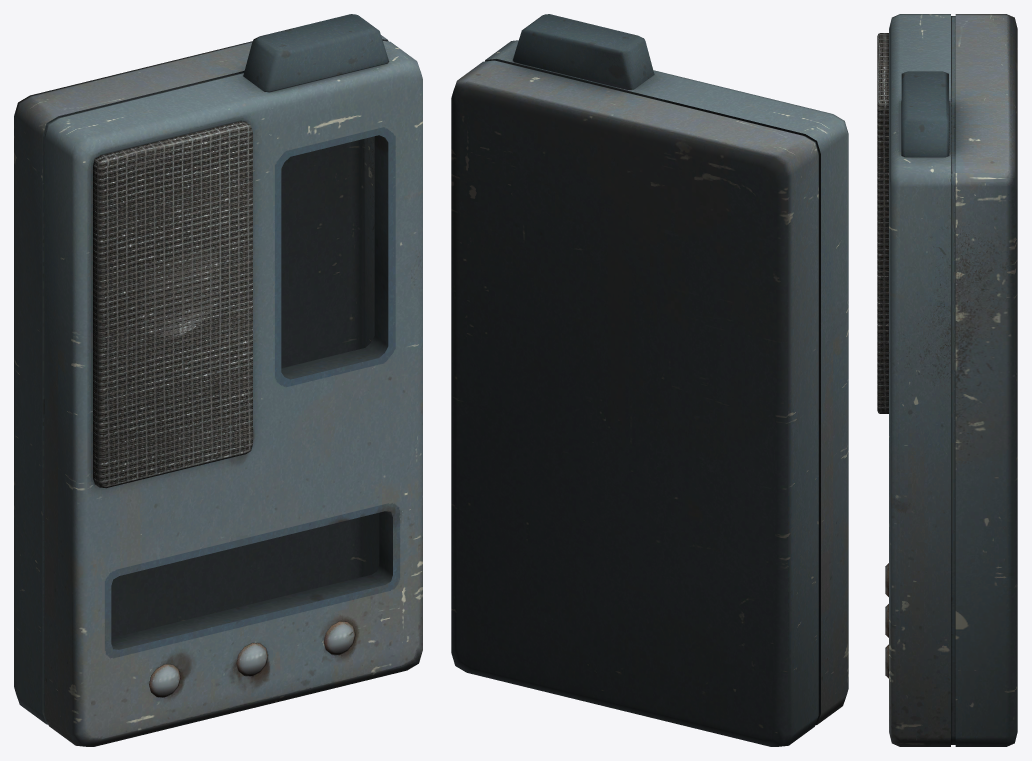
The model's file is Intercom.fbx.
The picture shows the model from 3 angles, left to right: view 1: azimuth 30°, elevation 25°; view 2: azimuth 150°, elevation 25°; view 3: azimuth 270°, elevation 25°; orthographic projection. The views are drawn at different scales.
Parts seen in each view (by area): view 1: Object_2; view 2: Object_2; view 3: Object_2.
Part boxes in pixels (x1,y1,x2,y2): Object_2: (14, 14, 422, 746); Object_2: (451, 14, 848, 746); Object_2: (877, 14, 1017, 746).
Bounding box in the file's own units: 12 × 21.18 × 4.36.
1 material, 1 textured.
